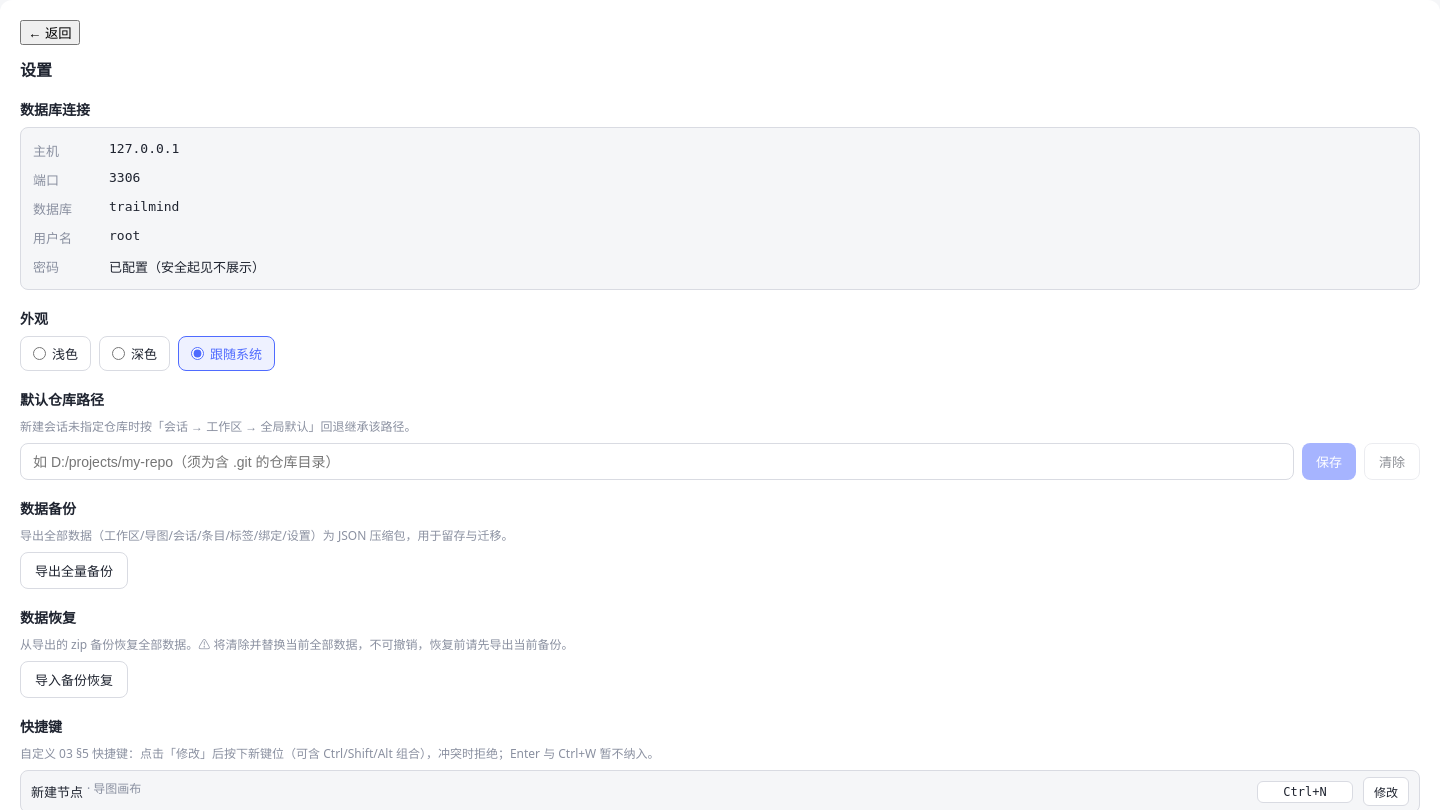
Test case: SettingsPanel 设置页（M4 任务四） › 导出备份失败展示错误信息
The width and height of the screenshot is (1440, 810).
Expected: the text "127.0.0.1" is shown, [109, 141, 180, 160]
Click the button "导出全量备份" at (74, 570), box [20, 552, 128, 589]
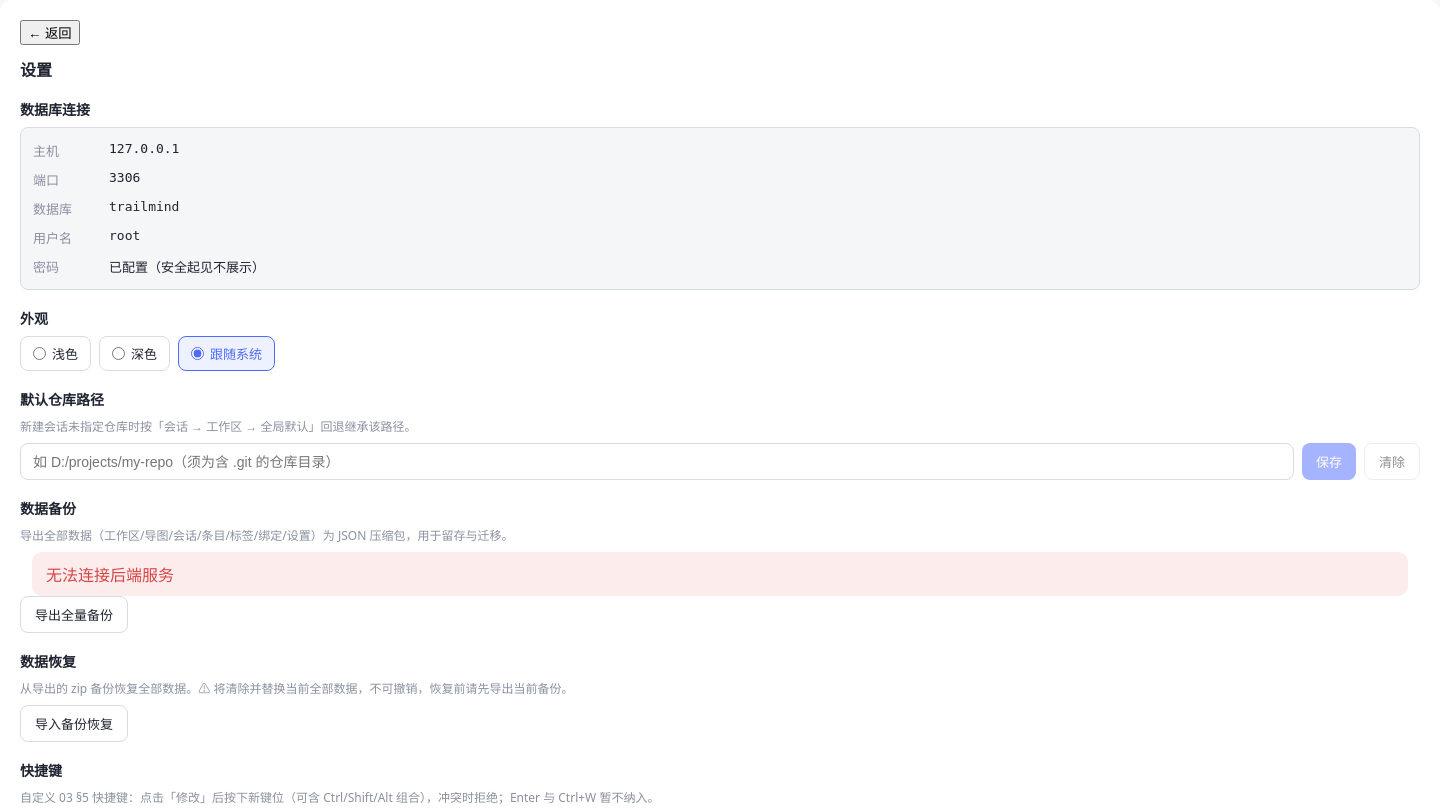
Expected: the message reads "无法连接后端服务", [46, 564, 174, 586]
